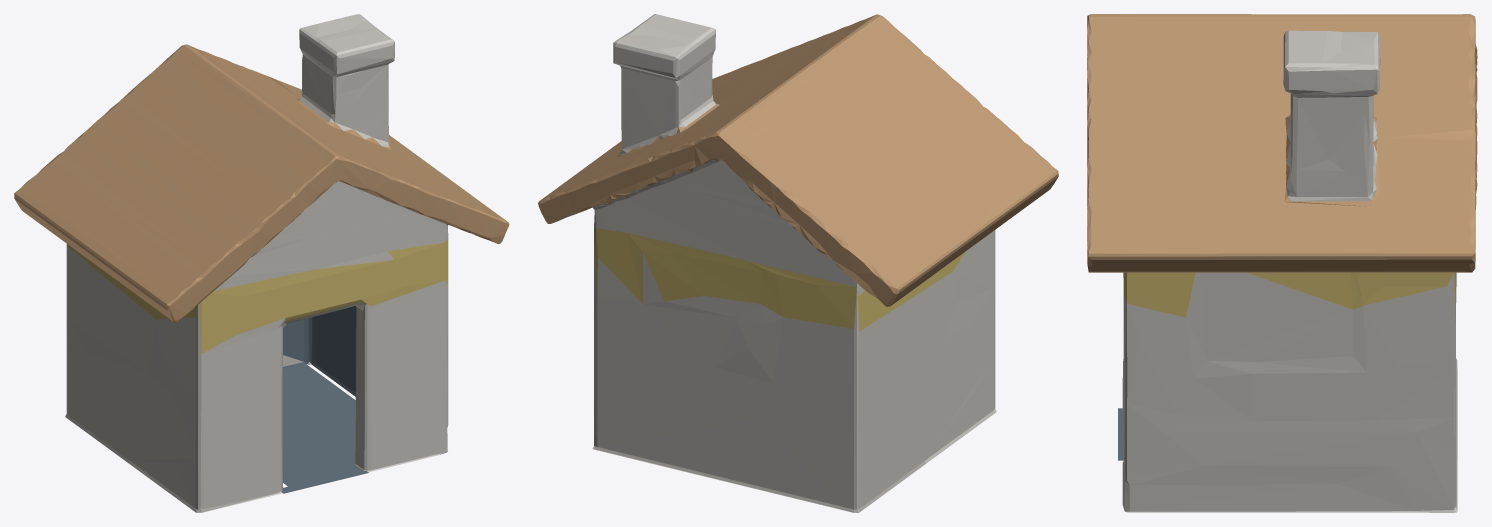
The picture shows the model from 3 angles, left to right: view 1: azimuth 30°, elevation 25°; view 2: azimuth 150°, elevation 25°; view 3: azimuth 270°, elevation 25°; orthographic projection. The views are drawn at different scales.
Visible parts, largest first — view 1: geometry_0; view 2: geometry_0; view 3: geometry_0.
Part boxes in pixels (left/top/right/bottom): geometry_0: left=14, top=14, right=509, bottom=512; geometry_0: left=538, top=14, right=1058, bottom=512; geometry_0: left=1087, top=14, right=1477, bottom=512.
Bounding box in the file's own units: 0.9235 × 0.9347 × 0.7293.
